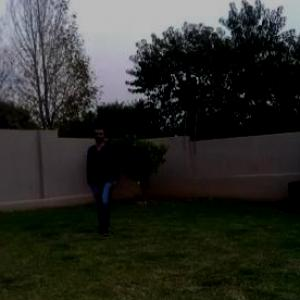follow: (86, 125, 122, 237)
